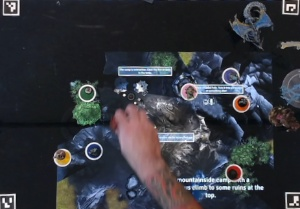green: (82, 140, 105, 162), (75, 83, 96, 103)
orange: (230, 92, 253, 114)
pink: (179, 81, 199, 99)
red: (224, 161, 246, 184)
violet: (221, 66, 241, 86)
yellow: (49, 147, 75, 167)
